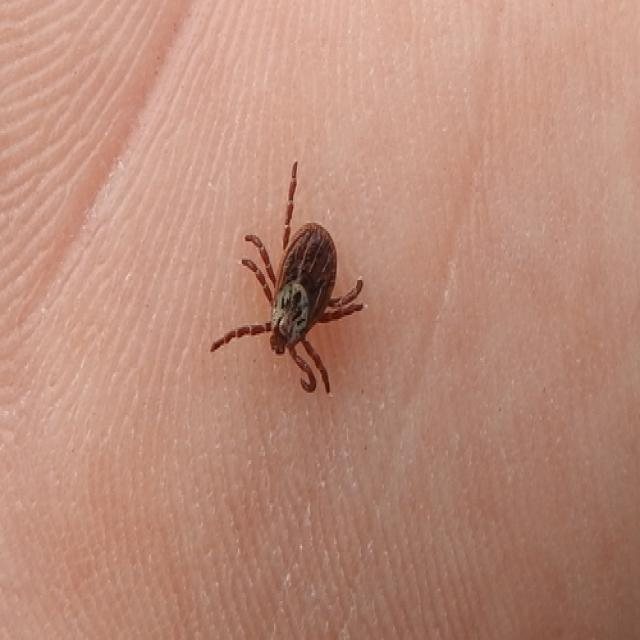Dermacentor Reticulatus-F: (209, 162, 364, 397)
